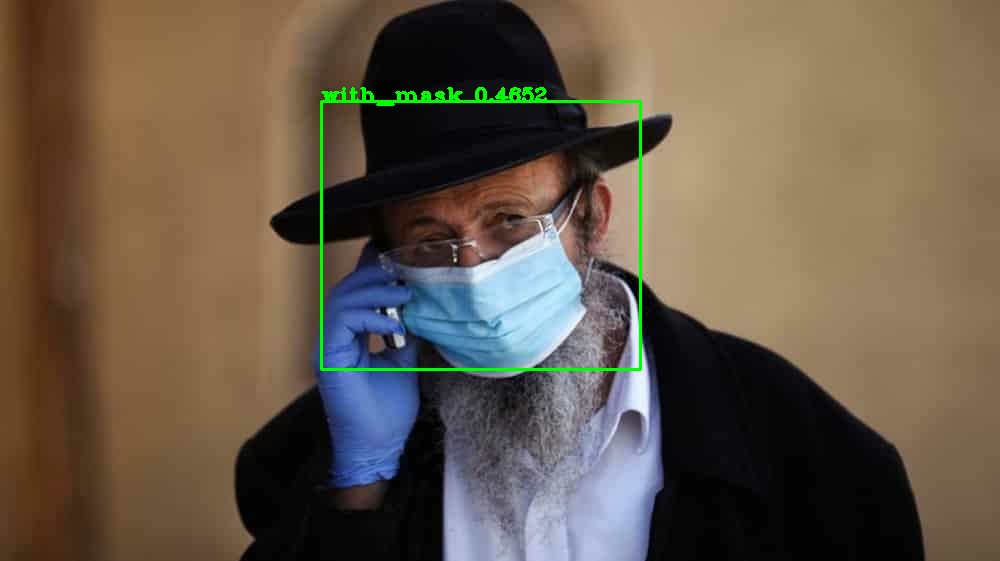with_mask: (328, 116, 673, 414)
